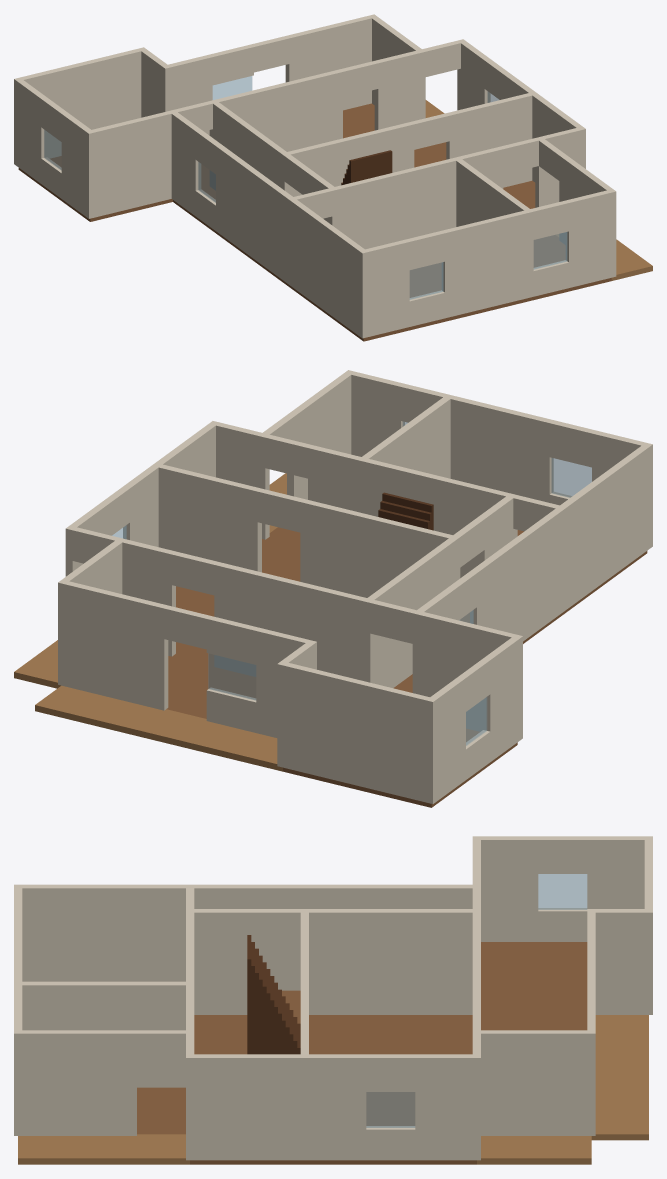
Rendered from primer-piso.glb.
The picture shows the model from 3 angles, top to bottom: view 1: azimuth 30°, elevation 25°; view 2: azimuth 150°, elevation 25°; view 3: azimuth 270°, elevation 25°; orthographic projection. The views are drawn at different scales.
Parts seen in each view (by area): view 1: primer-piso-muros, primer-piso-vanos, primer-piso-suelos, primer-piso-vidrios, primer-piso-escaleras; view 2: primer-piso-muros, primer-piso-vanos, primer-piso-suelos, primer-piso-vidrios, primer-piso-escaleras; view 3: primer-piso-muros, primer-piso-suelos, primer-piso-vanos, primer-piso-escaleras, primer-piso-vidrios.
Boxes of the visible parts, bbox=[...] form: primer-piso-muros: bbox=[14, 14, 616, 338]; primer-piso-vanos: bbox=[38, 35, 574, 328]; primer-piso-suelos: bbox=[18, 100, 652, 341]; primer-piso-vidrios: bbox=[44, 76, 567, 299]; primer-piso-escaleras: bbox=[341, 150, 392, 185]; primer-piso-muros: bbox=[58, 370, 652, 803]; primer-piso-vanos: bbox=[65, 382, 602, 782]; primer-piso-suelos: bbox=[14, 473, 647, 807]; primer-piso-vidrios: bbox=[112, 421, 591, 745]; primer-piso-escaleras: bbox=[378, 492, 433, 530]; primer-piso-muros: bbox=[14, 836, 652, 1160]; primer-piso-suelos: bbox=[18, 942, 648, 1164]; primer-piso-vanos: bbox=[14, 836, 595, 1160]; primer-piso-escaleras: bbox=[247, 935, 300, 1054]; primer-piso-vidrios: bbox=[366, 874, 587, 1127].
Bounding box in the file's own units: 13.94 × 3.18 × 16.98.
